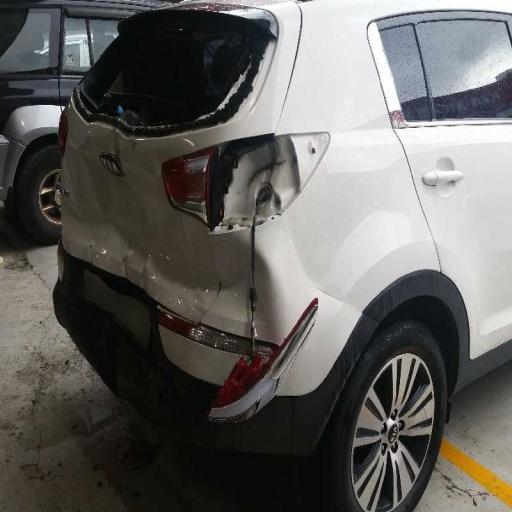dent: (64, 94, 226, 328)
